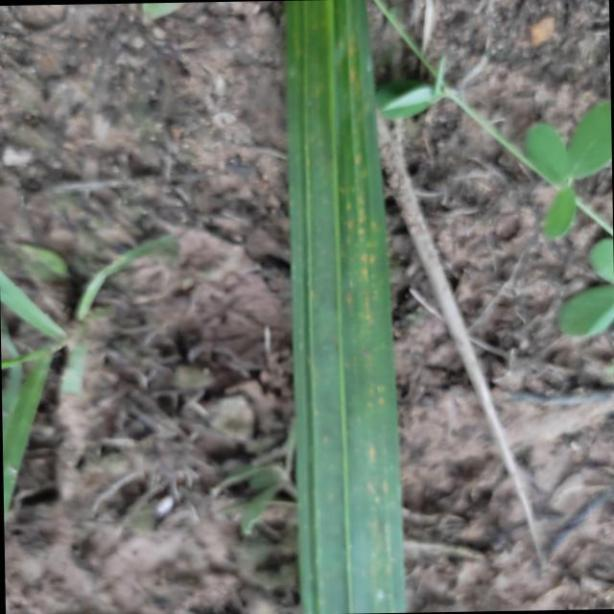Kalium: (283, 0, 409, 614)
